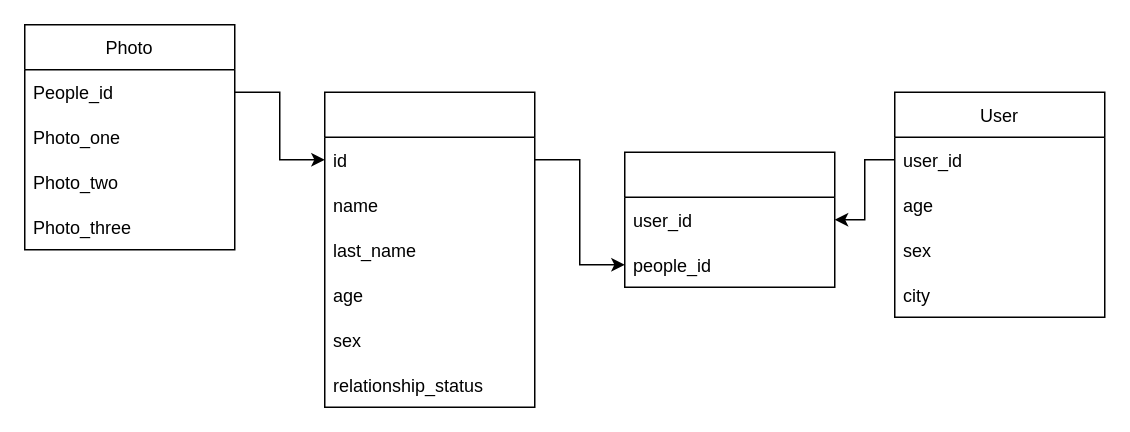
Some shapes in this 1130 by 432 pixel diagram are drawn without their labels. The box of each missing label's shape, as (x1, y1, x2, y2) in pixels:
Favs: (623, 151, 835, 287)
people: (323, 91, 535, 407)
